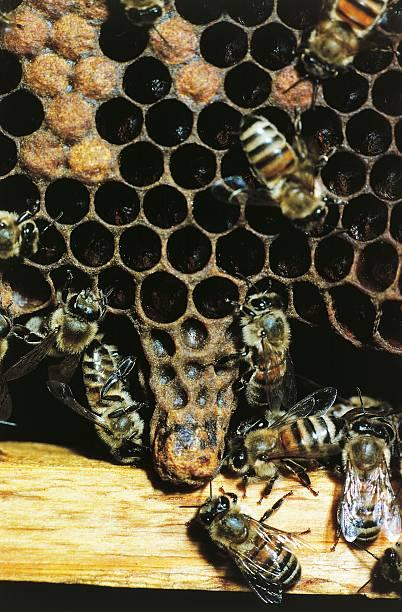worker-bee: (212, 113, 339, 233), (224, 387, 348, 502), (196, 488, 309, 603), (47, 333, 146, 464), (332, 413, 401, 549), (29, 288, 105, 381), (238, 291, 295, 412)
